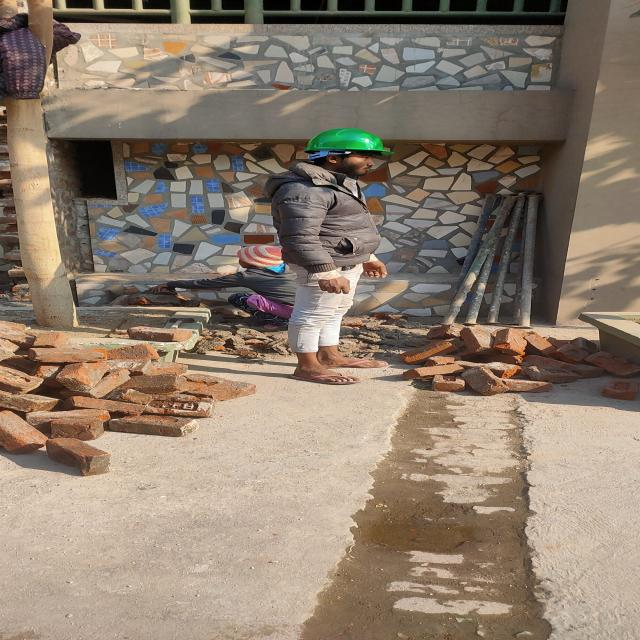no jacket: (266, 129, 396, 386)
unsafe: (150, 246, 299, 326)
